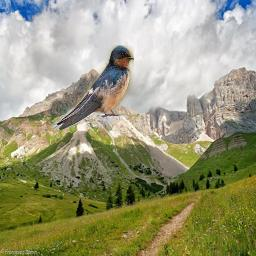Swallow: (52, 45, 134, 130)
